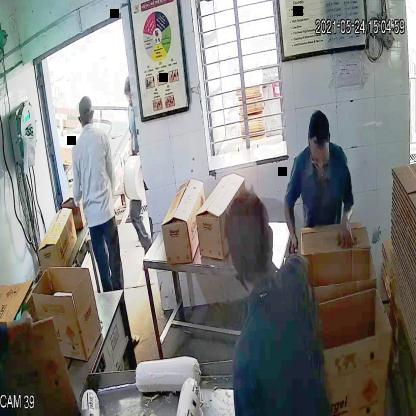goggles: (309, 144, 331, 170)
